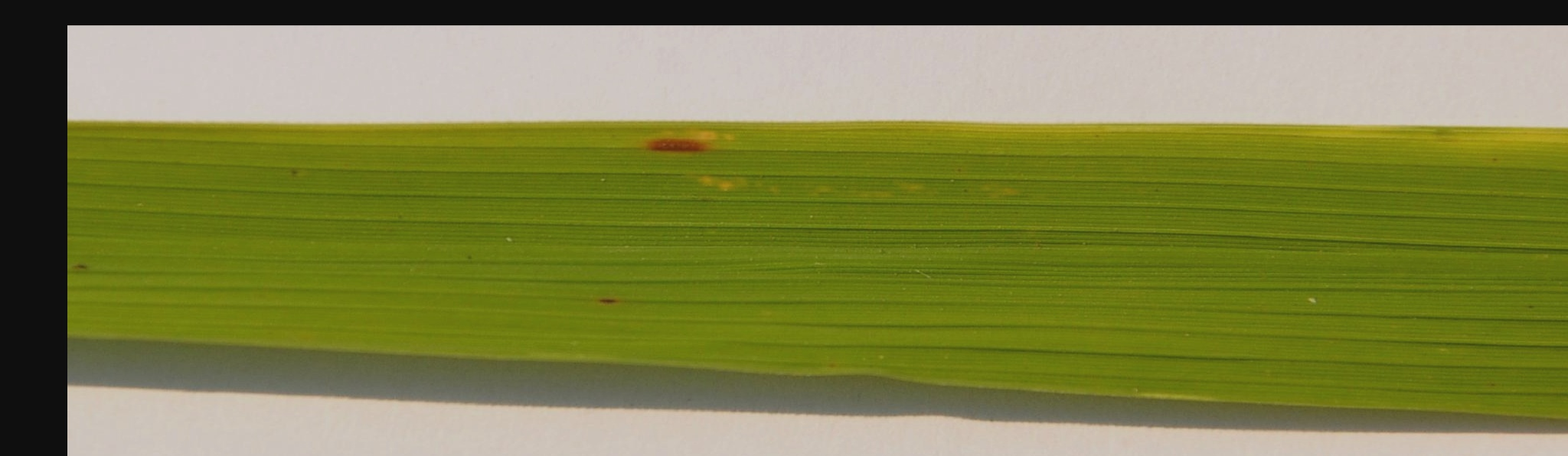Bacterial_Leaf_Blight: (604, 126, 740, 176)
